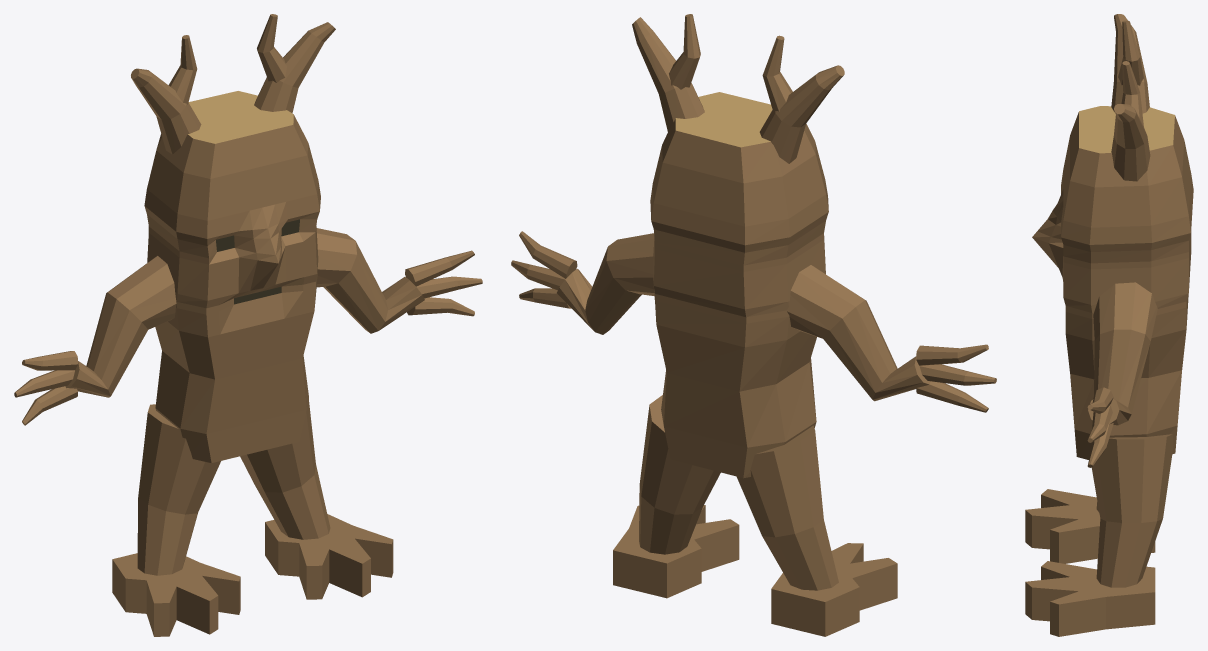
The picture shows the model from 3 angles, left to right: view 1: azimuth 30°, elevation 25°; view 2: azimuth 150°, elevation 25°; view 3: azimuth 270°, elevation 25°; orthographic projection. The views are drawn at different scales.
Visible parts, largest first — view 1: WholeSculptedTrunkAndFace, LeftWholeBentRootLeg, LeftWholeBentBranchArm, LeftWholeForkedGroundRoot, RightWholeForkedGroundRoot, RightWholeBentRootLeg, RightWholeBentBranchArm, RightWholeCrownBranch, LeftWholeCrownBranch, RightWholeCrownFork, LeftWholeCrownFork, RightWholeBranchFinger2 (+5 smaller); view 2: WholeSculptedTrunkAndFace, LeftWholeBentRootLeg, LeftWholeBentBranchArm, RightWholeBentRootLeg, LeftWholeForkedGroundRoot, RightWholeForkedGroundRoot, RightWholeBentBranchArm, LeftWholeCrownBranch, RightWholeCrownBranch, RightWholeCrownFork, LeftWholeCrownFork, LeftWholeBranchFinger2 (+4 smaller); view 3: WholeSculptedTrunkAndFace, RightWholeBentRootLeg, RightWholeForkedGroundRoot, RightWholeBentBranchArm, LeftWholeForkedGroundRoot, RightWholeCrownBranch, LeftWholeCrownBranch, LeftWholeCrownFork, RightWholeCrownFork, RightWholeBranchFinger1, RightWholeBranchFinger2, RightWholeBranchFinger0.
Boxes of the visible parts, bbox=[...] form: WholeSculptedTrunkAndFace: bbox=[144, 91, 320, 463]; LeftWholeBentRootLeg: bbox=[137, 404, 220, 575]; LeftWholeBentBranchArm: bbox=[65, 256, 176, 397]; LeftWholeForkedGroundRoot: bbox=[112, 553, 240, 636]; RightWholeForkedGroundRoot: bbox=[265, 514, 393, 599]; RightWholeBentRootLeg: bbox=[240, 399, 330, 539]; RightWholeBentBranchArm: bbox=[316, 228, 424, 333]; RightWholeCrownBranch: bbox=[254, 22, 335, 113]; LeftWholeCrownBranch: bbox=[131, 68, 201, 154]; RightWholeCrownFork: bbox=[257, 14, 286, 82]; LeftWholeCrownFork: bbox=[168, 35, 197, 104]; RightWholeBranchFinger2: bbox=[405, 250, 474, 286]; WholeSculptedTrunkAndFace: bbox=[650, 92, 828, 478]; LeftWholeBentRootLeg: bbox=[736, 425, 838, 590]; LeftWholeBentBranchArm: bbox=[787, 265, 930, 401]; RightWholeBentRootLeg: bbox=[639, 395, 720, 554]; LeftWholeForkedGroundRoot: bbox=[771, 543, 897, 636]; RightWholeForkedGroundRoot: bbox=[613, 505, 739, 598]; RightWholeBentBranchArm: bbox=[557, 233, 654, 334]; LeftWholeCrownBranch: bbox=[759, 65, 844, 163]; RightWholeCrownBranch: bbox=[632, 17, 704, 131]; RightWholeCrownFork: bbox=[669, 14, 700, 89]; LeftWholeCrownFork: bbox=[762, 35, 792, 111]; LeftWholeBranchFinger2: bbox=[916, 344, 988, 365]; WholeSculptedTrunkAndFace: bbox=[1032, 106, 1193, 459]; RightWholeBentRootLeg: bbox=[1092, 434, 1173, 587]; RightWholeForkedGroundRoot: bbox=[1025, 561, 1155, 636]; RightWholeBentBranchArm: bbox=[1088, 282, 1157, 425]; LeftWholeForkedGroundRoot: bbox=[1025, 489, 1155, 563]; RightWholeCrownBranch: bbox=[1111, 104, 1150, 181]; LeftWholeCrownBranch: bbox=[1111, 14, 1149, 113]; LeftWholeCrownFork: bbox=[1118, 20, 1143, 85]; RightWholeCrownFork: bbox=[1121, 61, 1143, 126]; RightWholeBranchFinger1: bbox=[1087, 404, 1112, 442]; RightWholeBranchFinger2: bbox=[1087, 387, 1113, 413]; RightWholeBranchFinger0: bbox=[1087, 423, 1113, 467].
Size of the model in its own units: 2.32 by 2.63 by 0.7516.
